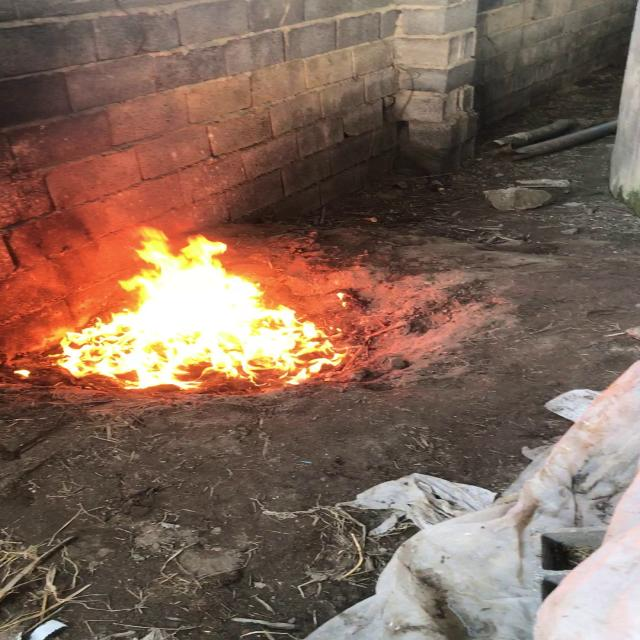fire: (69, 232, 312, 378)
